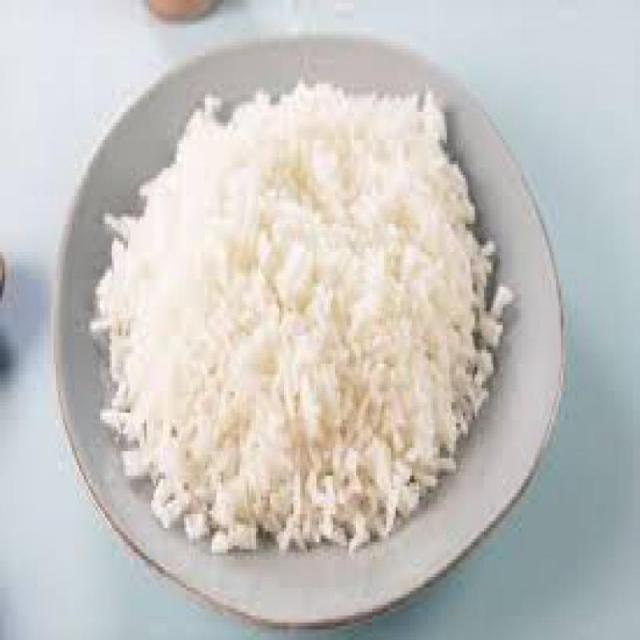nasi_putih: (95, 81, 502, 554)
